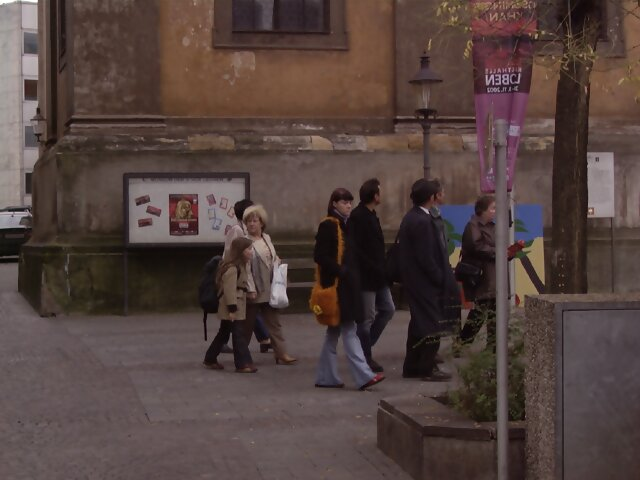person: (310, 181, 382, 391), (392, 179, 460, 388), (195, 238, 273, 378)
